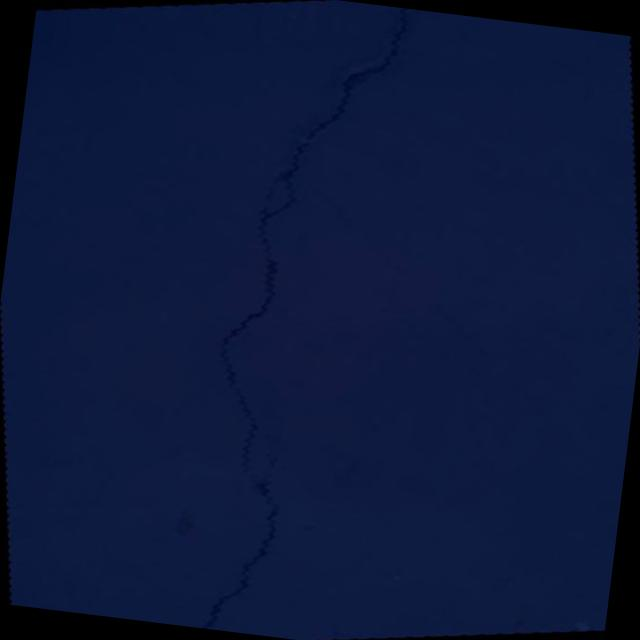crack: (87, 0, 512, 640)
